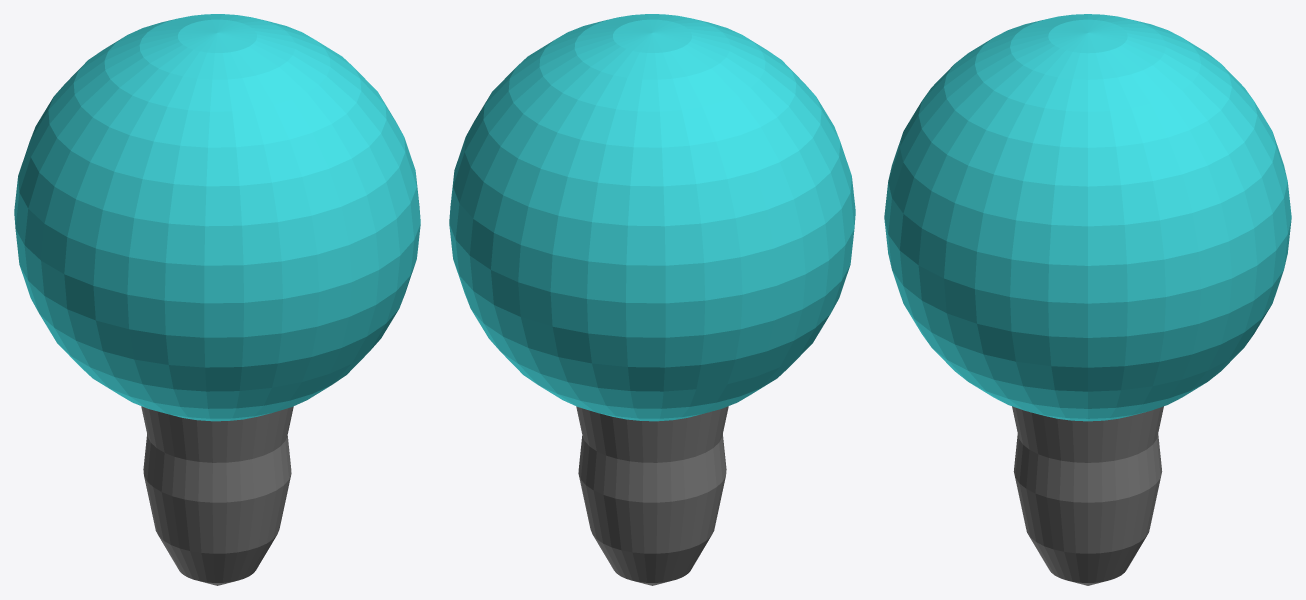
Rendered from glass1.fbx.
3 views of the same model, side by side, from view 1: azimuth 30°, elevation 25°; view 2: azimuth 150°, elevation 25°; view 3: azimuth 270°, elevation 25° (orthographic).
Visible parts, largest first — view 1: Bulb; view 2: Bulb; view 3: Bulb.
Part boxes in pixels (x1,y1,x2,y2): Bulb: (14,14,420,585); Bulb: (449,14,855,585); Bulb: (884,14,1291,585).
Size of the model in its own units: 200 by 300 by 200.
